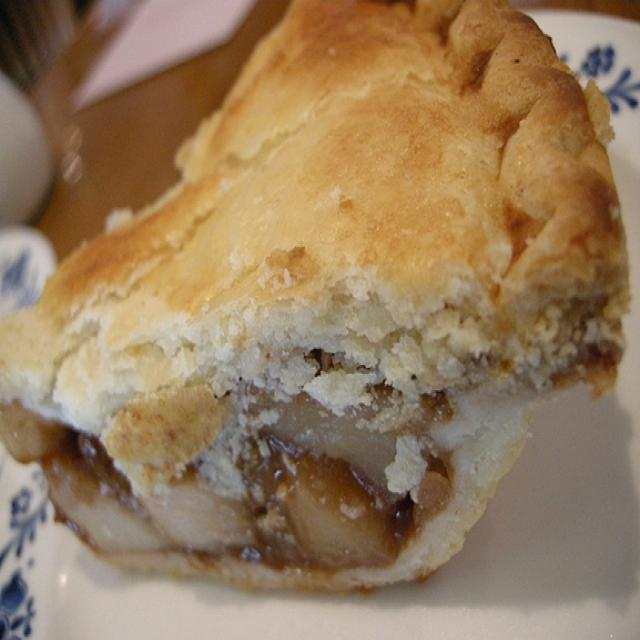Apple: (10, 9, 630, 591)
